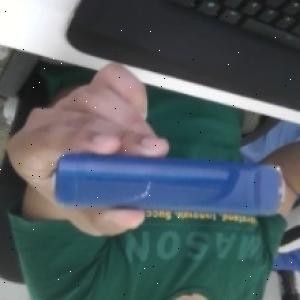Diamond-E-Ciggirate: (53, 153, 289, 220)
